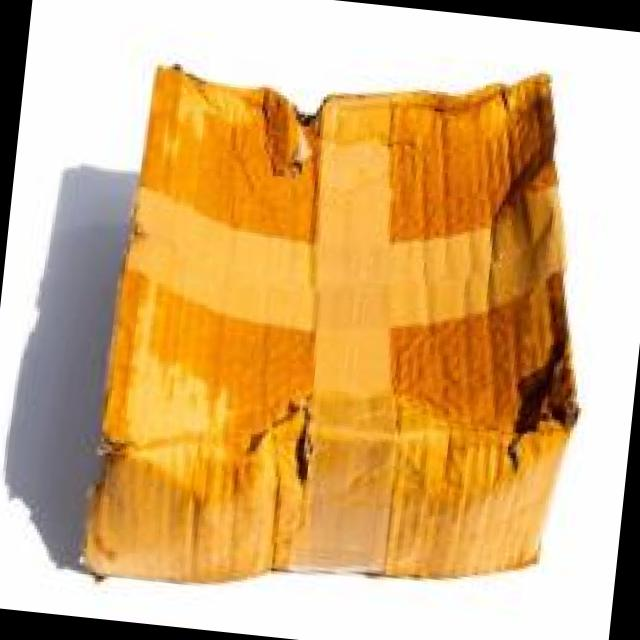box: (83, 58, 575, 578)
crushed: (83, 59, 576, 574)
opened: (254, 75, 323, 177)
